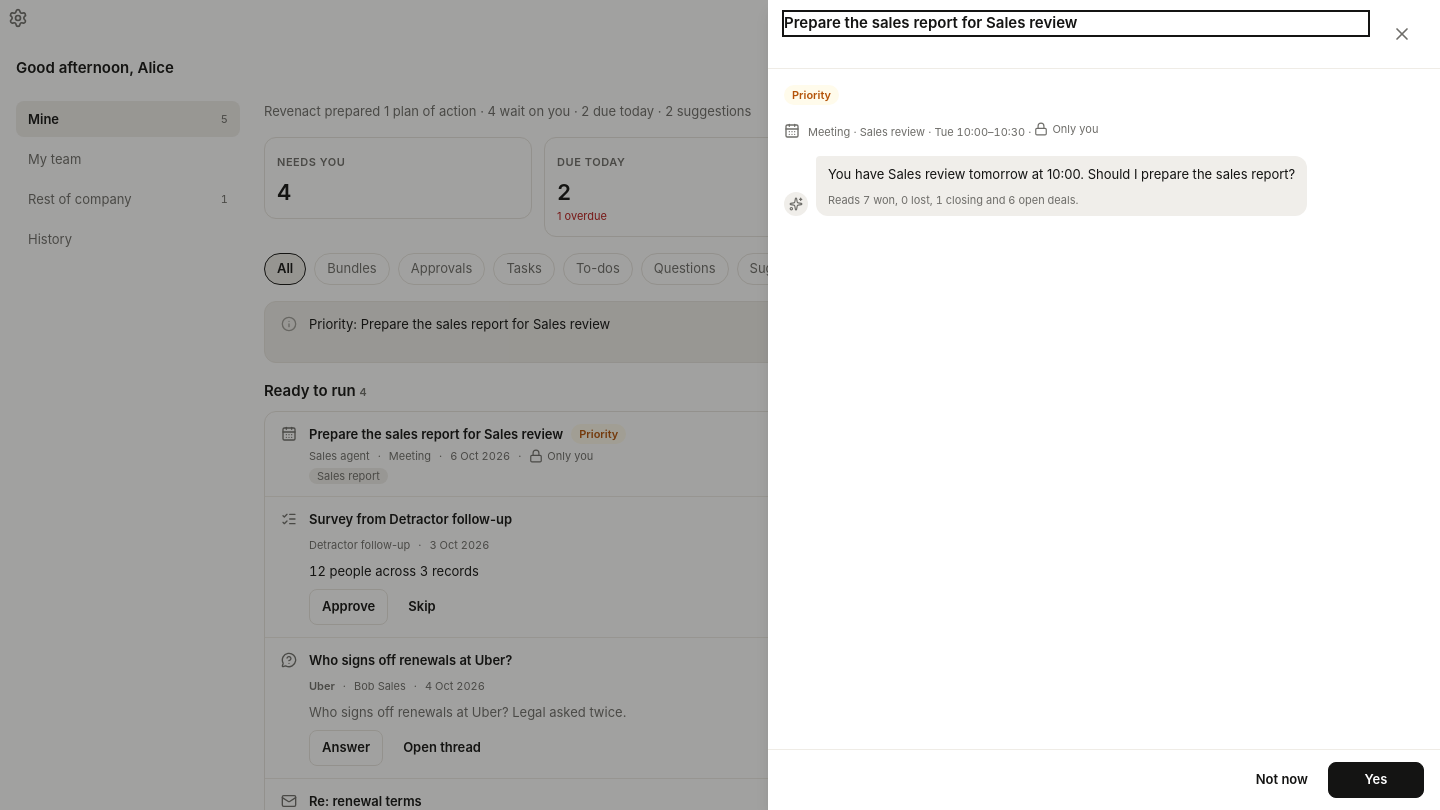
Test: sales report in the guided conversation (2026-10-18) › asks about the meeting with what it will read, then Yes shows the report with Download as the primary
Expected: the element with test id "bundle-source" shows "Meeting · Sales review", [784, 122, 1098, 139]
Click the button "Yes": (1376, 780) [1328, 762, 1424, 798]
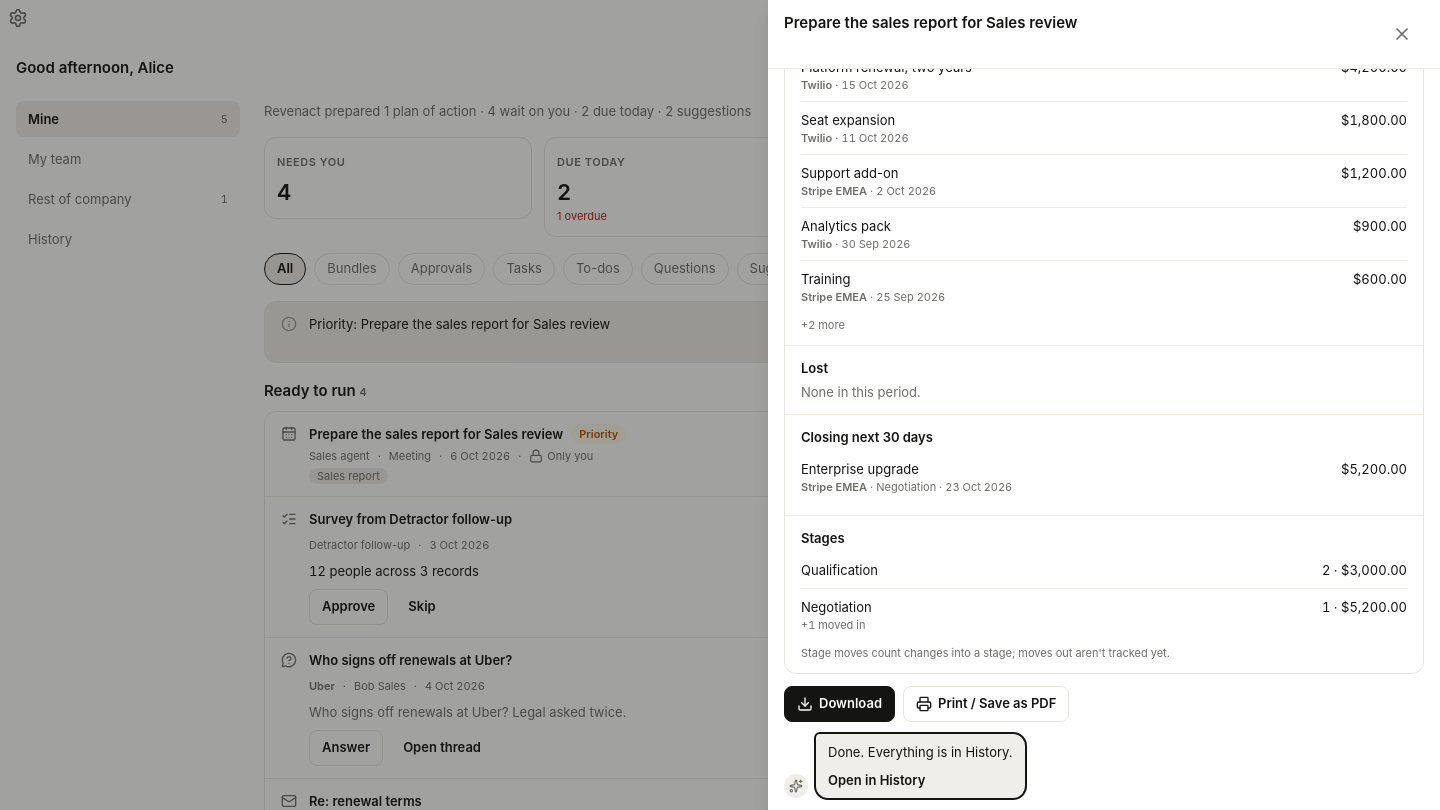
Now the button "Yes" is gone
Now the text "Reads 7 won, 0 lost, 1 closing and 6 open deals." is gone
